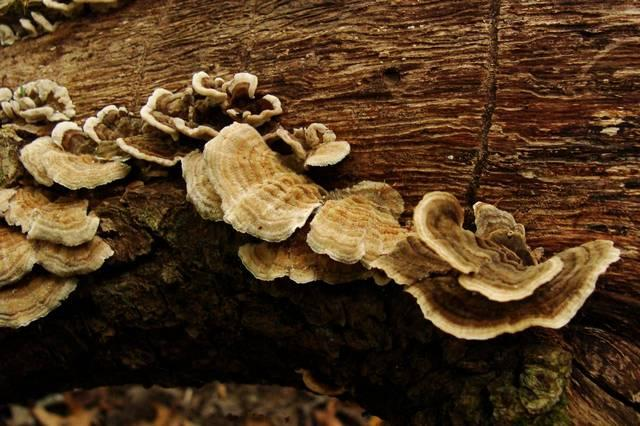Non-edible Mushroom: (0, 68, 621, 341), (402, 189, 621, 340)
